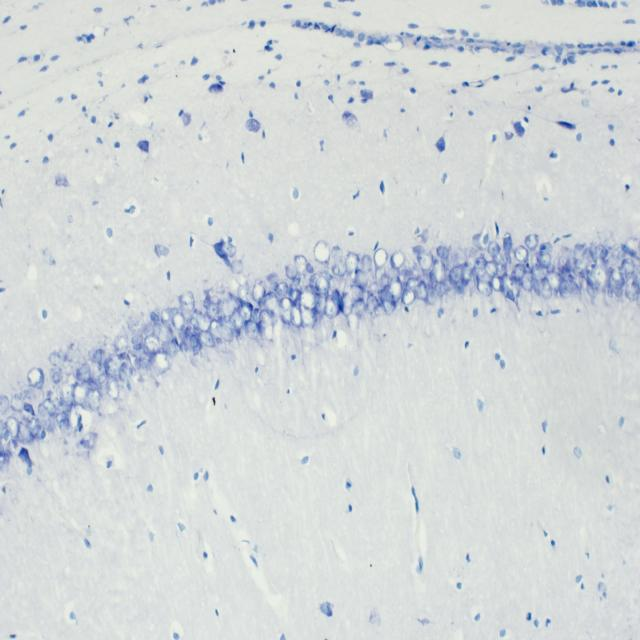neuron: (258, 308, 275, 342), (217, 293, 240, 317), (124, 310, 146, 335), (590, 262, 610, 288), (152, 321, 173, 344), (296, 290, 317, 313), (154, 349, 174, 373), (502, 273, 520, 298), (314, 239, 331, 264), (27, 366, 45, 389), (86, 388, 103, 412), (300, 307, 317, 331), (417, 249, 434, 273), (546, 270, 564, 292), (264, 290, 278, 318), (324, 295, 340, 319), (387, 280, 403, 304), (206, 302, 225, 322), (144, 333, 161, 355), (4, 415, 20, 438), (37, 404, 52, 428), (90, 363, 106, 385), (104, 356, 120, 378), (452, 244, 468, 266), (432, 258, 446, 283), (287, 282, 302, 305), (119, 352, 133, 376), (252, 280, 266, 304), (293, 255, 309, 276), (315, 275, 331, 296), (390, 249, 406, 270), (17, 422, 32, 444), (180, 290, 195, 312), (80, 431, 98, 449), (332, 287, 344, 314), (416, 280, 430, 303), (218, 323, 234, 343), (344, 252, 360, 272), (536, 249, 552, 269), (373, 246, 388, 267), (290, 302, 302, 328), (314, 292, 326, 318), (341, 292, 354, 316), (60, 384, 74, 406), (243, 320, 259, 339), (624, 281, 640, 300), (20, 401, 35, 421), (583, 248, 598, 268), (610, 268, 625, 288), (115, 331, 128, 354), (354, 268, 368, 289), (198, 330, 215, 347), (378, 288, 394, 306), (461, 262, 473, 286), (477, 279, 493, 297), (189, 334, 202, 356), (73, 384, 87, 404), (230, 310, 244, 330), (28, 417, 41, 438), (331, 245, 344, 266), (521, 271, 534, 292), (49, 351, 66, 367), (332, 260, 348, 277), (76, 363, 91, 381), (237, 284, 252, 302), (345, 312, 360, 330), (349, 284, 364, 302), (401, 288, 416, 306), (575, 256, 590, 274), (43, 398, 57, 417), (138, 352, 152, 371), (172, 312, 186, 331), (540, 277, 552, 299), (107, 380, 120, 400), (239, 304, 252, 324), (353, 298, 366, 318), (220, 241, 236, 257), (278, 308, 294, 324), (434, 281, 450, 297), (10, 394, 25, 411), (88, 348, 105, 363), (382, 300, 397, 317), (514, 245, 529, 262), (366, 294, 380, 312), (490, 274, 504, 292), (525, 233, 539, 251), (574, 240, 588, 258), (449, 265, 462, 284), (559, 279, 572, 298), (188, 309, 202, 326), (197, 314, 211, 331), (484, 260, 498, 277), (160, 308, 173, 326), (622, 257, 635, 275), (118, 362, 129, 383), (514, 262, 526, 281), (570, 280, 582, 299), (50, 367, 64, 383), (274, 281, 288, 297), (531, 264, 545, 280), (607, 284, 623, 298), (595, 243, 608, 260), (610, 246, 627, 259), (427, 284, 438, 304), (131, 332, 143, 350), (488, 240, 500, 258), (230, 259, 244, 274), (210, 318, 222, 335), (280, 295, 292, 312), (286, 263, 298, 280), (374, 265, 386, 282), (361, 254, 372, 272), (503, 232, 512, 254), (586, 280, 597, 298), (379, 272, 392, 287), (56, 399, 68, 415), (406, 276, 418, 292), (0, 394, 10, 413), (266, 272, 280, 285), (436, 246, 449, 260), (474, 256, 487, 270), (142, 322, 154, 337), (539, 241, 553, 253), (59, 418, 70, 432), (67, 372, 78, 386), (0, 450, 9, 466), (8, 438, 18, 452), (498, 252, 508, 266), (0, 419, 5, 441)
